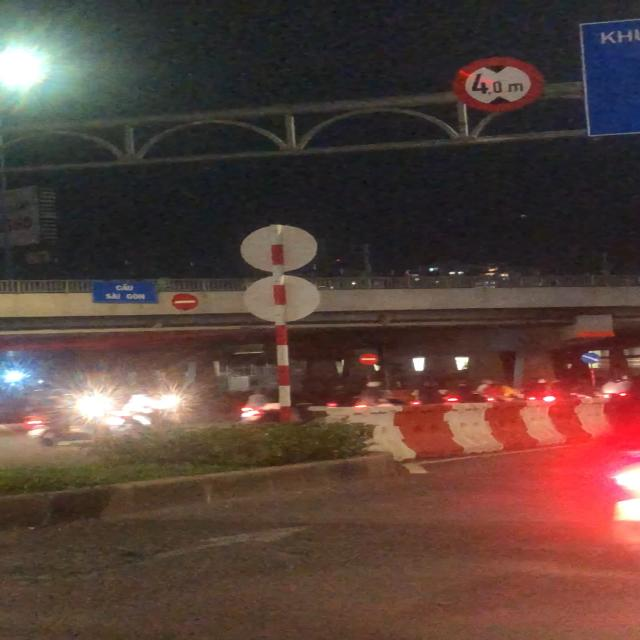Bien bao cam di nguoc chieu: (171, 292, 201, 311), (357, 351, 383, 365)
Bien bao huong phai di vong chuong ngai vat: (580, 352, 602, 364)
